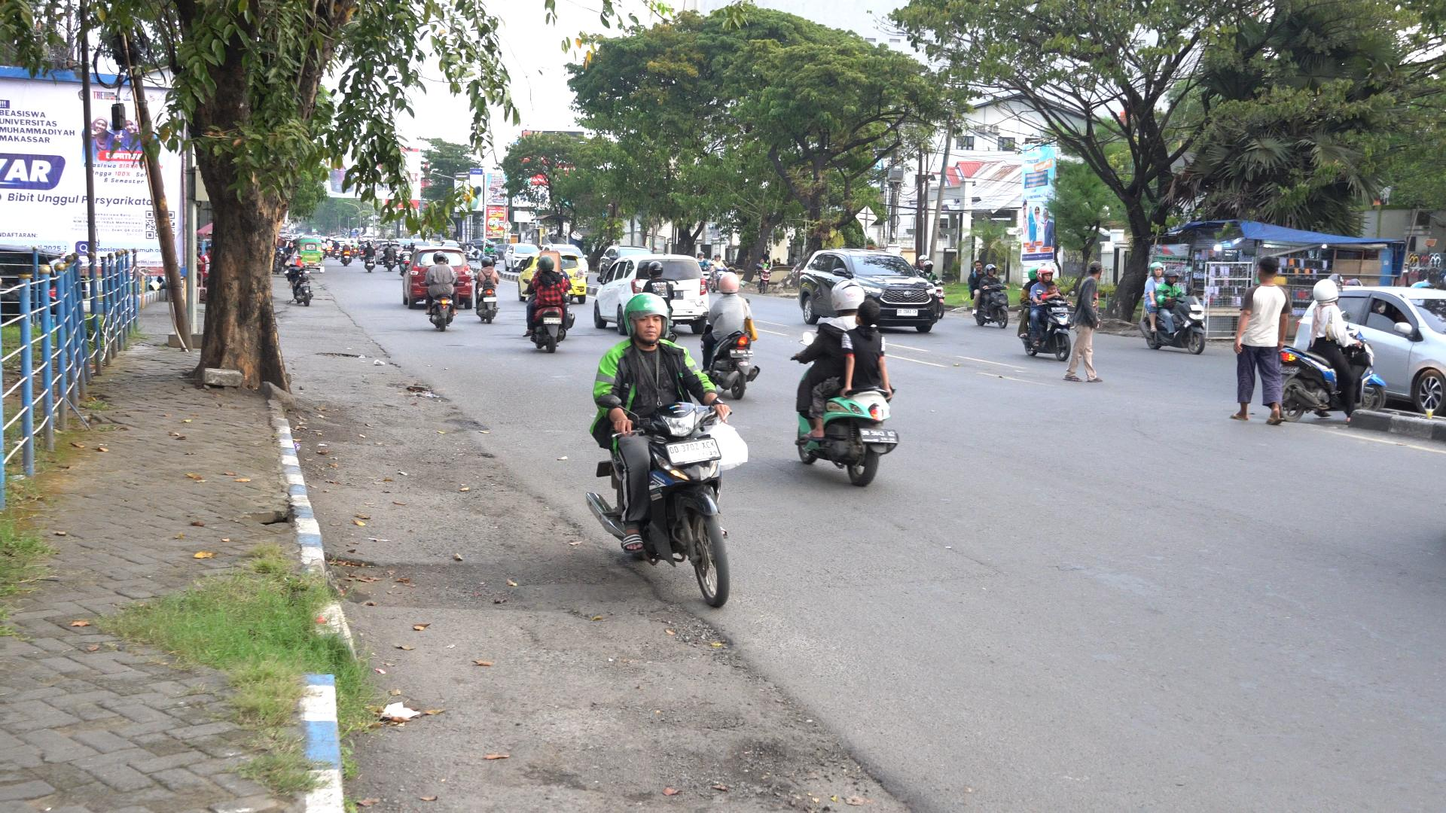number-plate: (663, 434, 720, 465)
